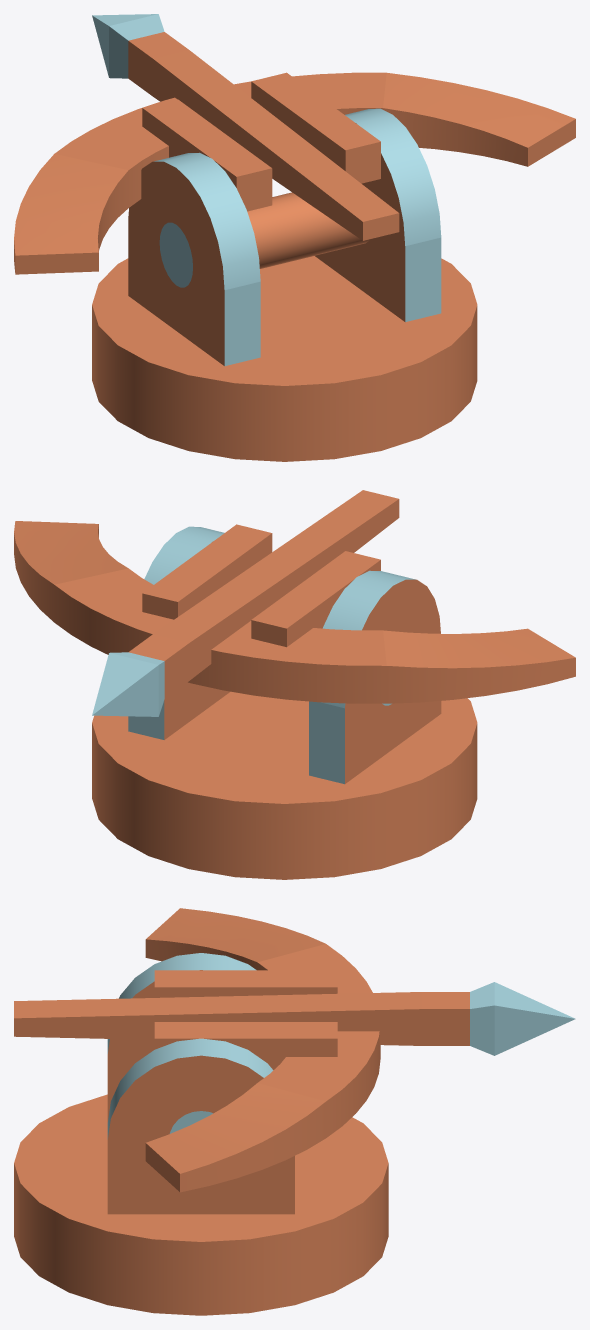
File: d_kenney_baliste.glb
3 renders of one model, top to bottom at view 1: azimuth 30°, elevation 25°; view 2: azimuth 150°, elevation 25°; view 3: azimuth 270°, elevation 25°, orthographic. The views are drawn at different scales.
Visible parts, largest first — view 1: d_kenney_baliste; view 2: d_kenney_baliste; view 3: d_kenney_baliste.
Boxes of the visible parts, box(x1,y1,x2,y2) form: d_kenney_baliste: box(14, 14, 575, 461); d_kenney_baliste: box(14, 490, 575, 879); d_kenney_baliste: box(14, 908, 575, 1315).
Bounding box in the file's own units: 0.7724 × 0.3292 × 0.69.
Materials: 1 (1 with a texture image).
